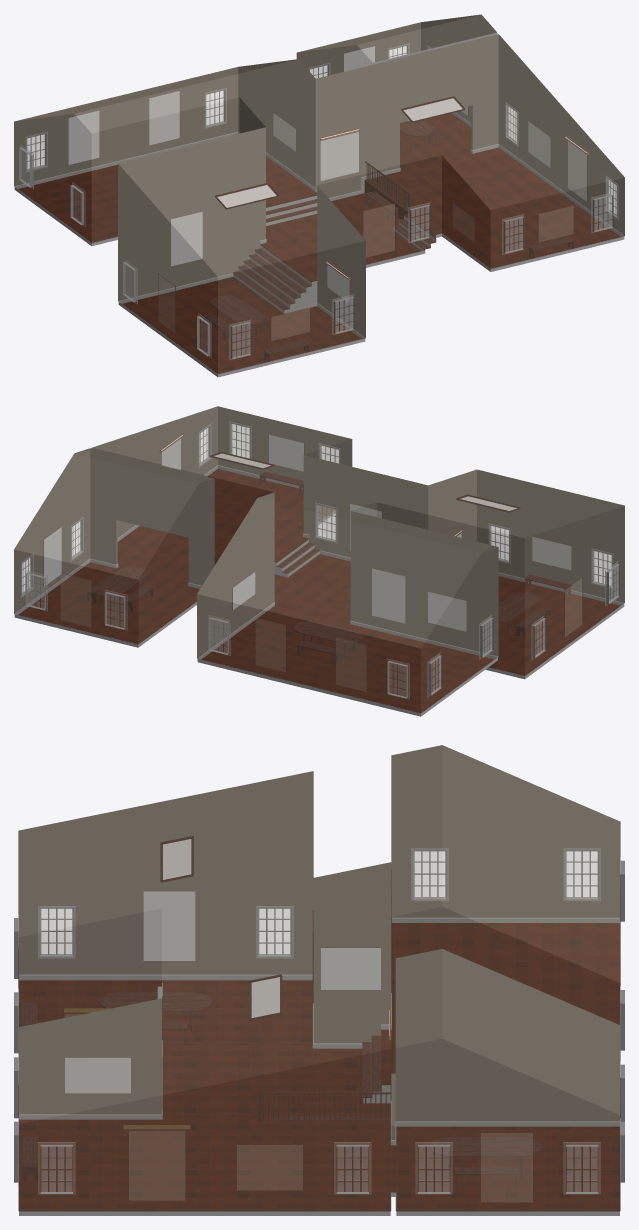
Rendered from buildingb.gltf.
The picture shows the model from 3 angles, top to bottom: view 1: azimuth 30°, elevation 25°; view 2: azimuth 150°, elevation 25°; view 3: azimuth 270°, elevation 25°; orthographic projection. The views are drawn at different scales.
Visible parts, largest first — view 1: Material3 (×10), Material2 (×5); view 2: Material3 (×8), Material2 (×5); view 3: Material3 (×5), Material2 (×5).
Part boxes in pixels (left/top/right/bottom): Material3 (×10): left=14, top=15, right=624, bottom=373; Material2 (×5): left=14, top=14, right=624, bottom=377; Material3 (×8): left=14, top=406, right=624, bottom=712; Material2 (×5): left=14, top=406, right=624, bottom=716; Material3 (×5): left=18, top=745, right=620, bottom=1210; Material2 (×5): left=14, top=745, right=624, bottom=1215.
Bounding box in the file's own units: 751 × 277 × 652.
